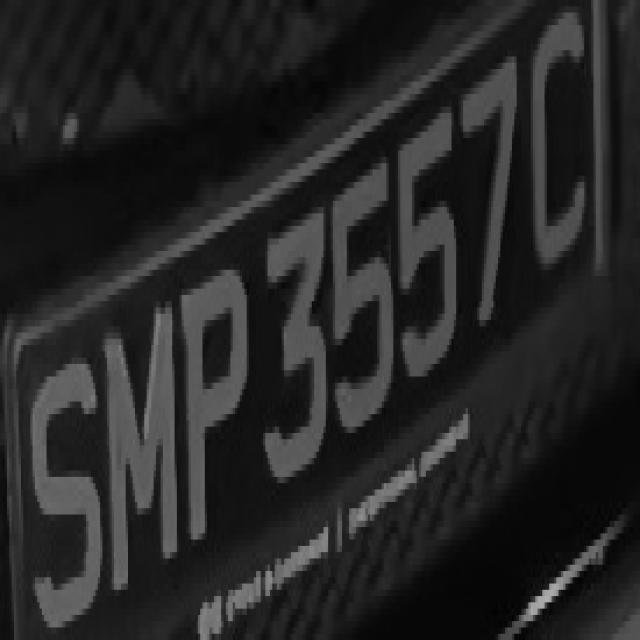3: (260, 201, 326, 489)
5: (388, 94, 468, 395), (319, 176, 400, 452)
7: (458, 50, 522, 339)
C: (524, 19, 594, 301)
M: (95, 295, 184, 577)
P: (180, 251, 252, 552)
S: (18, 332, 102, 640)
